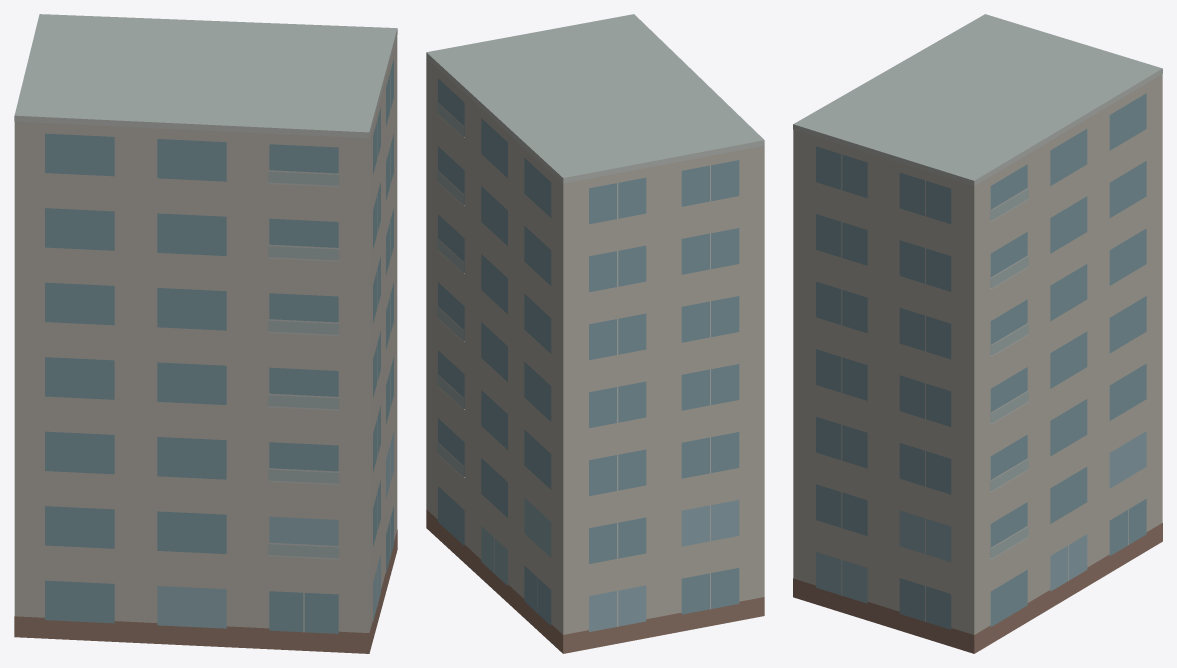
Rendered from survey-upis-32507475.glb.
The picture shows the model from 3 angles, left to right: view 1: azimuth 30°, elevation 25°; view 2: azimuth 150°, elevation 25°; view 3: azimuth 270°, elevation 25°; orthographic projection. The views are drawn at different scales.
Parts seen in each view (by area): view 1: survey-upis-32507475.tmp; view 2: survey-upis-32507475.tmp; view 3: survey-upis-32507475.tmp.
Boxes of the visible parts, bbox=[...] form: survey-upis-32507475.tmp: bbox=[14, 14, 397, 653]; survey-upis-32507475.tmp: bbox=[426, 14, 764, 653]; survey-upis-32507475.tmp: bbox=[793, 14, 1162, 653].
Bounding box in the file's own units: 16.16 × 21.35 × 15.13.
